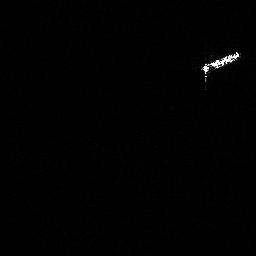ship: (198, 48, 243, 82)
